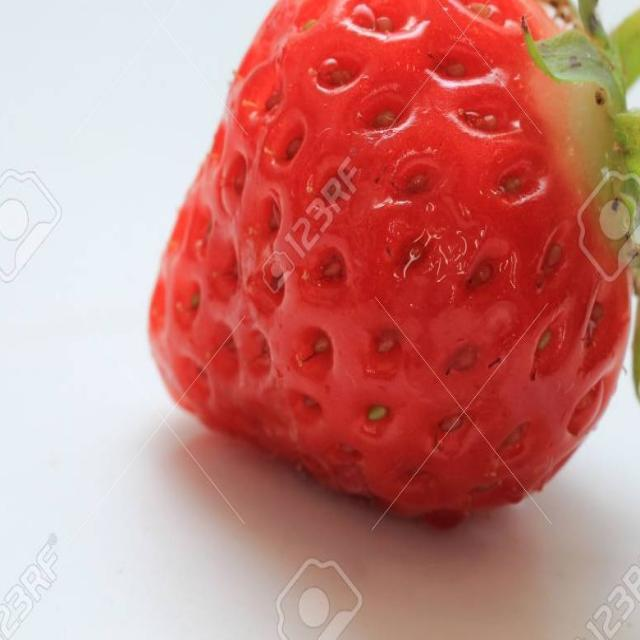strawberry: (133, 0, 639, 539)
